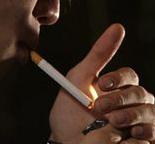smoke: (27, 47, 94, 108)
